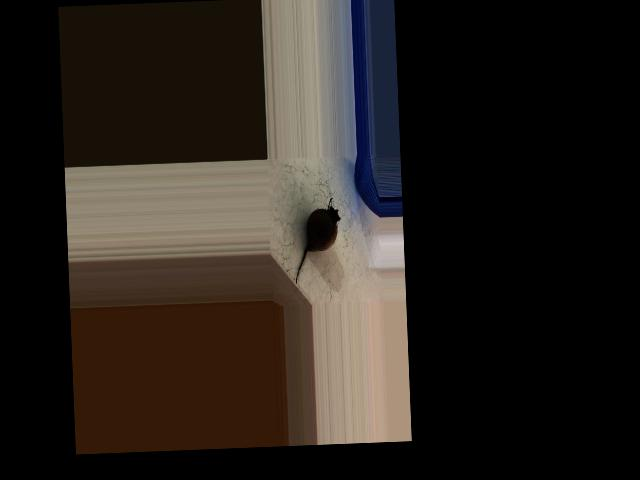beet: (292, 198, 342, 283)
